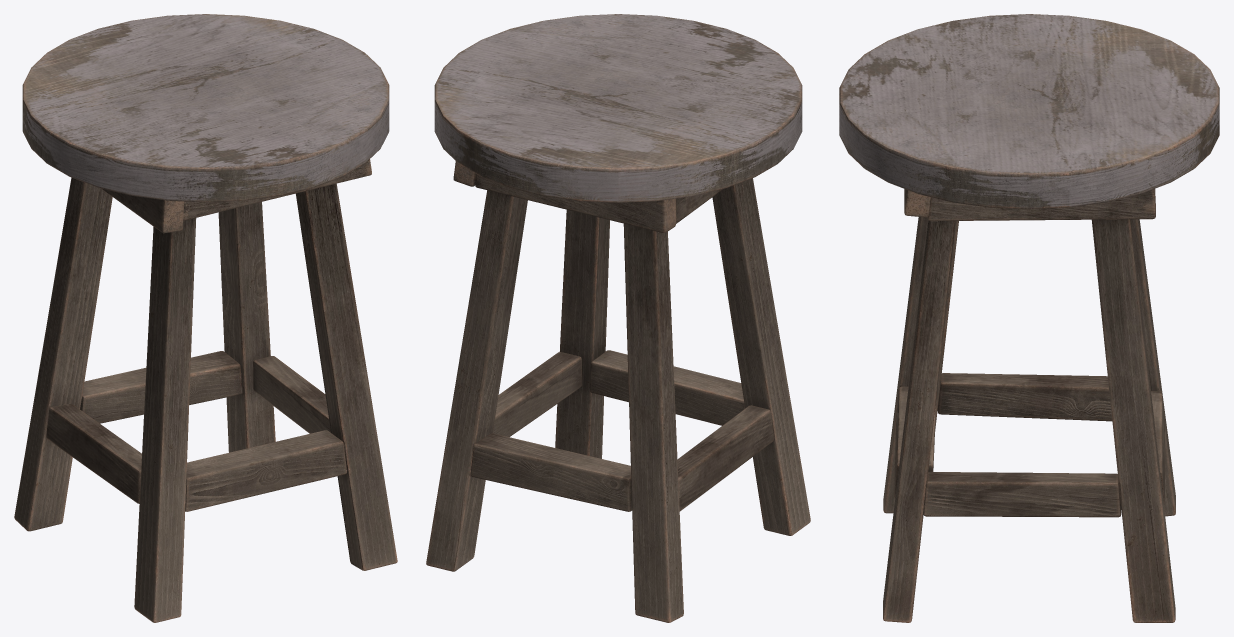
Rendered from stool_a58ae667aa1b.glb.
3 views of the same model, side by side, from view 1: azimuth 30°, elevation 25°; view 2: azimuth 150°, elevation 25°; view 3: azimuth 270°, elevation 25° (orthographic). The views are drawn at different scales.
Parts seen in each view (by area): view 1: polySurface1 (×3); view 2: polySurface1 (×3); view 3: polySurface1 (×3).
Part boxes in pixels (x1,y1,x2,y2): polySurface1 (×3): [14, 14, 397, 622]; polySurface1 (×3): [426, 14, 810, 622]; polySurface1 (×3): [839, 14, 1219, 622].
Bounding box in the file's own units: 1.48 × 2 × 1.47.
3 materials, 3 textured.
